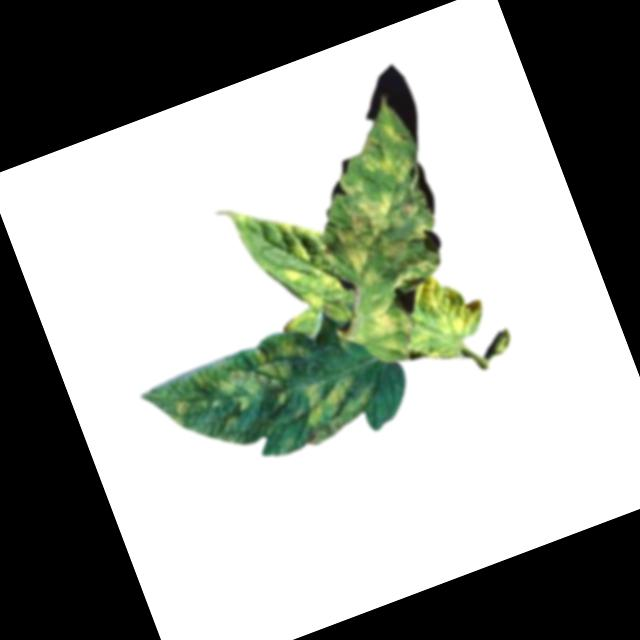Leaf_Mold: (288, 99, 461, 306), (148, 324, 325, 445), (230, 181, 349, 325), (388, 260, 497, 372), (286, 360, 384, 450), (349, 289, 418, 371)
